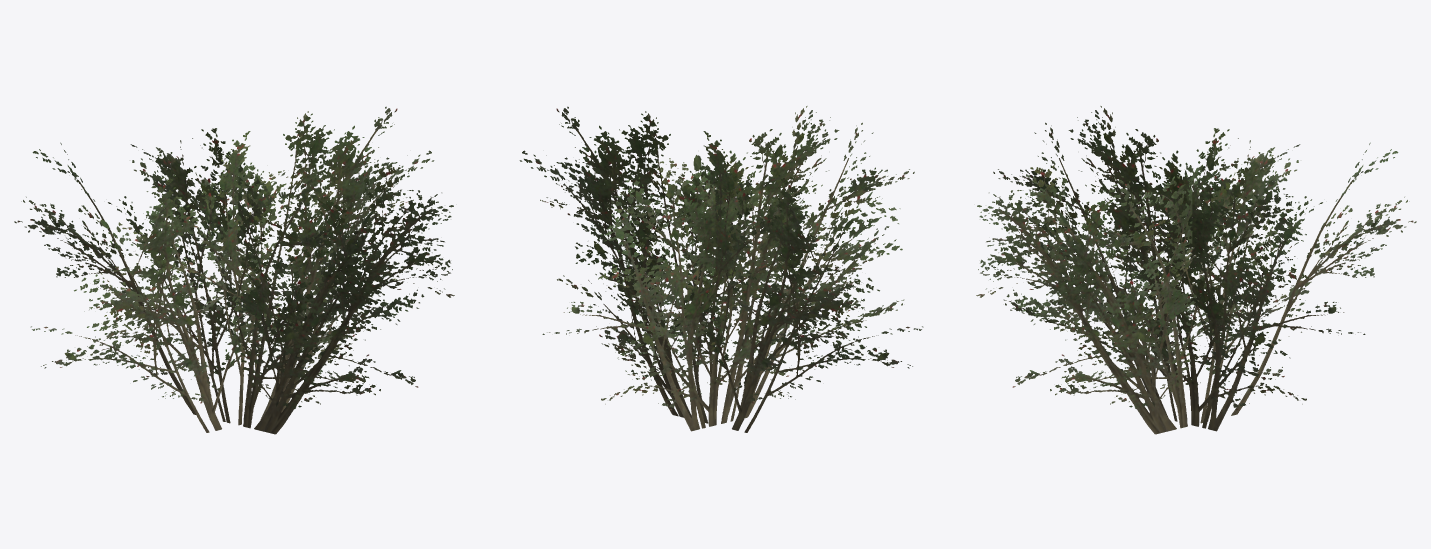
File: sipek_3_daleko.glb
The picture shows the model from 3 angles, left to right: view 1: azimuth 30°, elevation 25°; view 2: azimuth 150°, elevation 25°; view 3: azimuth 270°, elevation 25°; orthographic projection.
Visible parts, largest first — view 1: sipek_3_daleko; view 2: sipek_3_daleko; view 3: sipek_3_daleko.
Boxes of the visible parts, x1,y1,x2,y2 form: sipek_3_daleko: (14, 106, 454, 434); sipek_3_daleko: (519, 106, 923, 432); sipek_3_daleko: (976, 106, 1416, 434).
Size of the model in its own units: 3.98 by 2.56 by 3.44.
3 materials, 3 textured.
